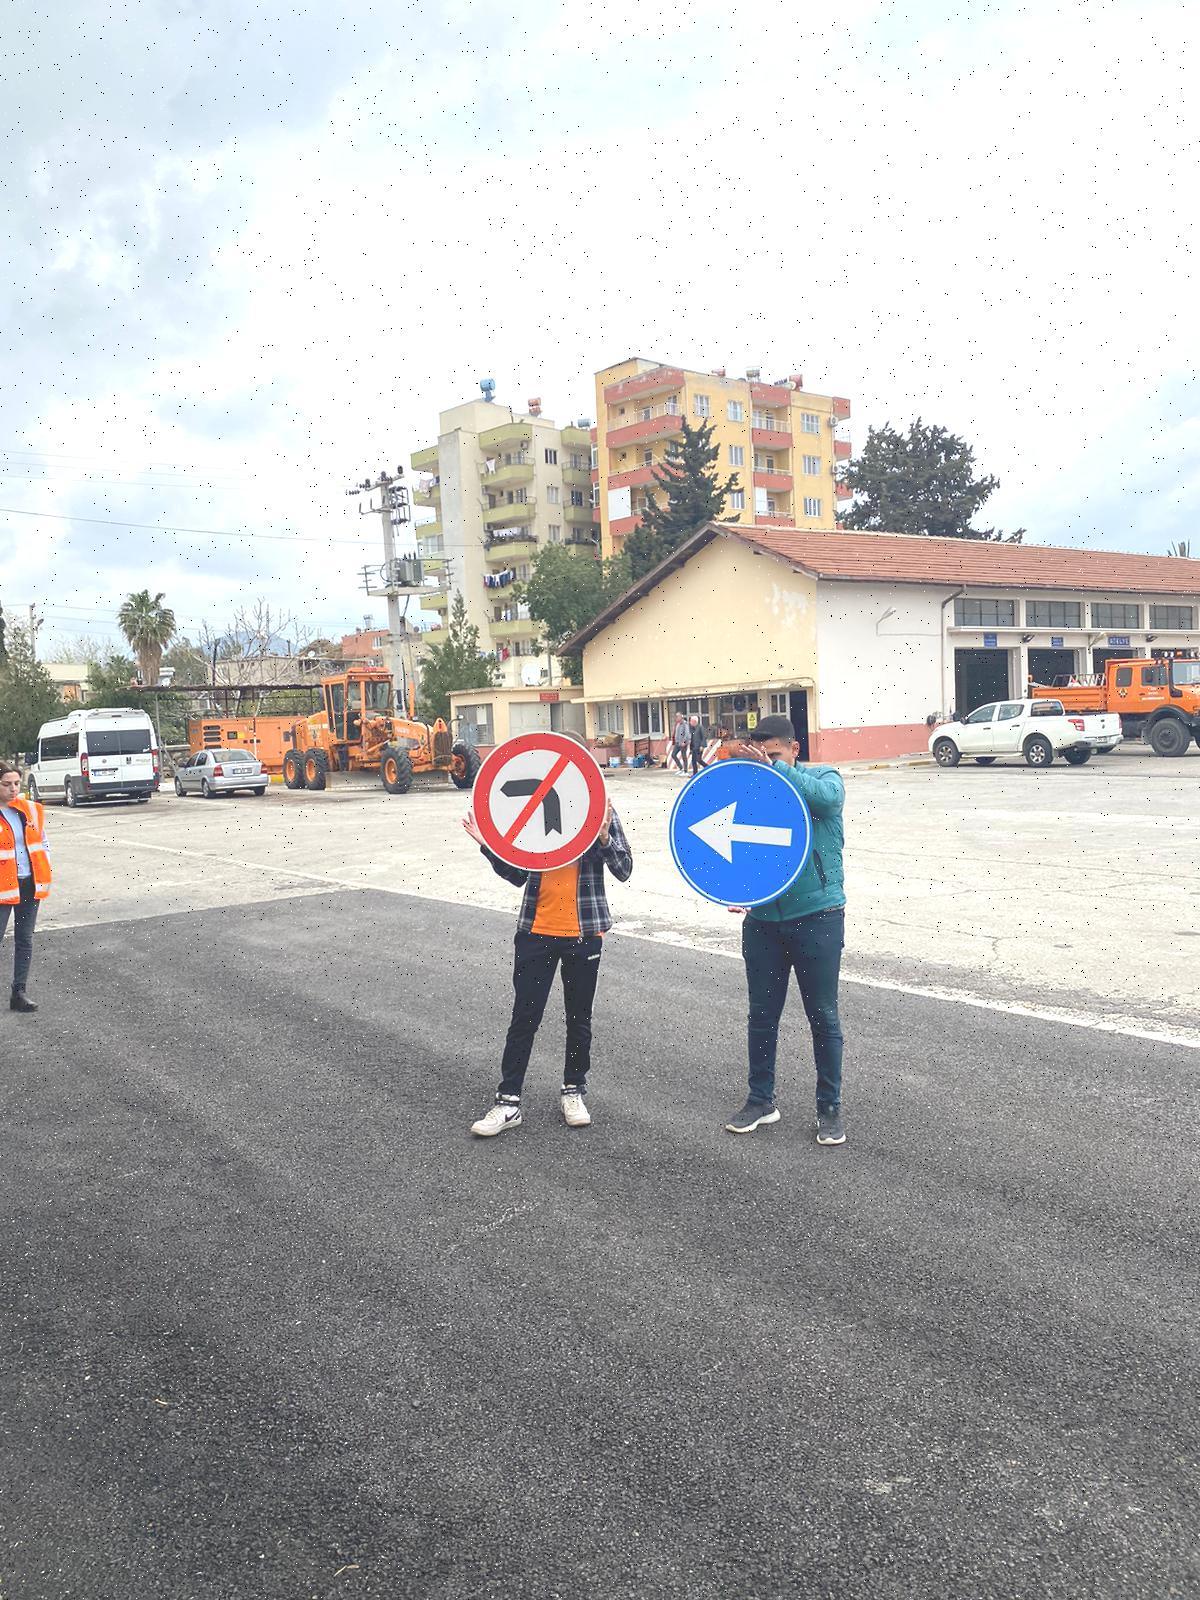leftturnsareforbidden: (470, 738, 609, 872)
turnleft: (669, 757, 814, 906)
